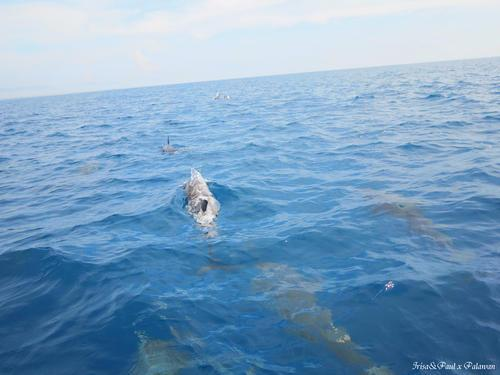fish: (247, 258, 390, 375), (184, 163, 248, 278)
